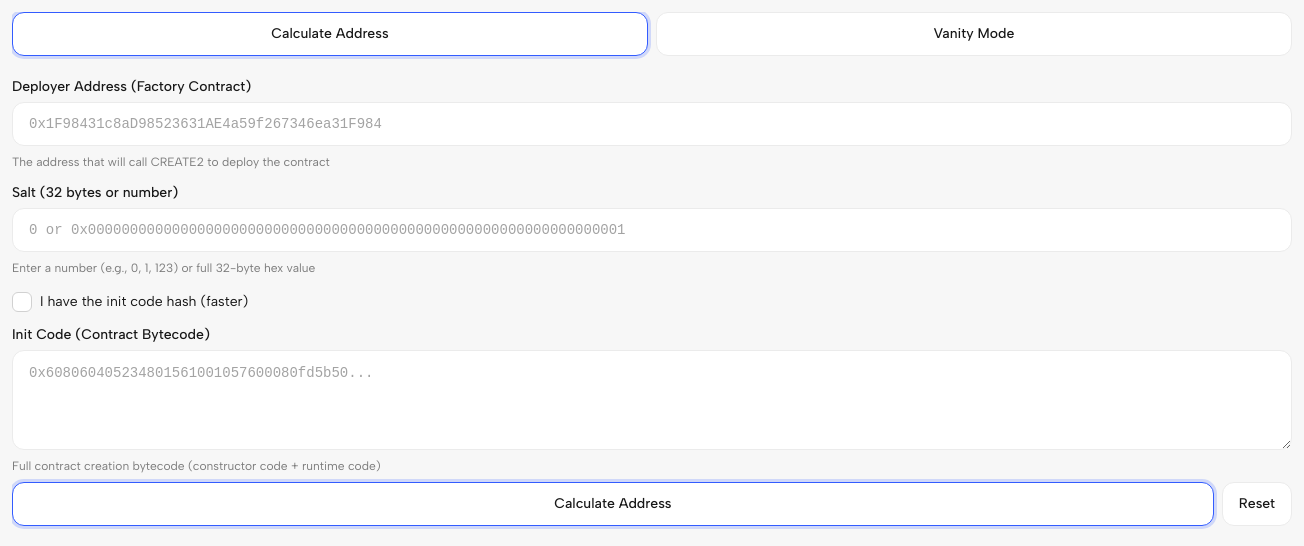
Test case: Create2AddressPredictorTool › resets form when reset button is clicked
Step 1. Type "0x1234567890123456789012345678901234567890" into the field with placeholder "0x1F98431c8aD98523631AE4a59f267346ea31F984" → (652,124), box [12,102,1292,146]
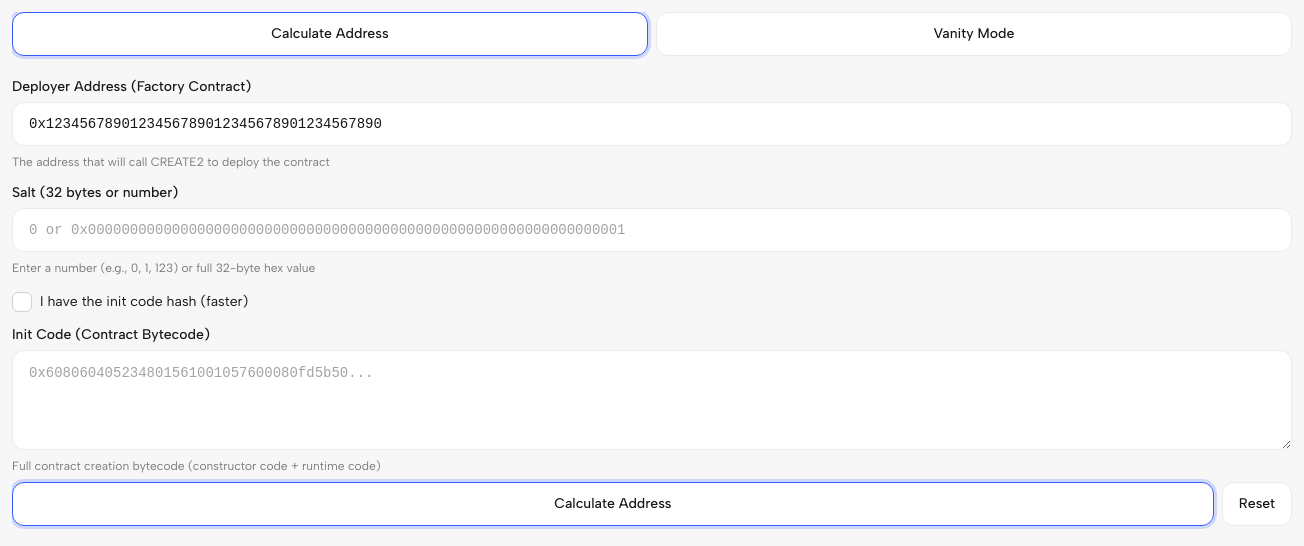
Step 2. Click the button "Reset" → (1257,504), box [1222,482,1292,526]
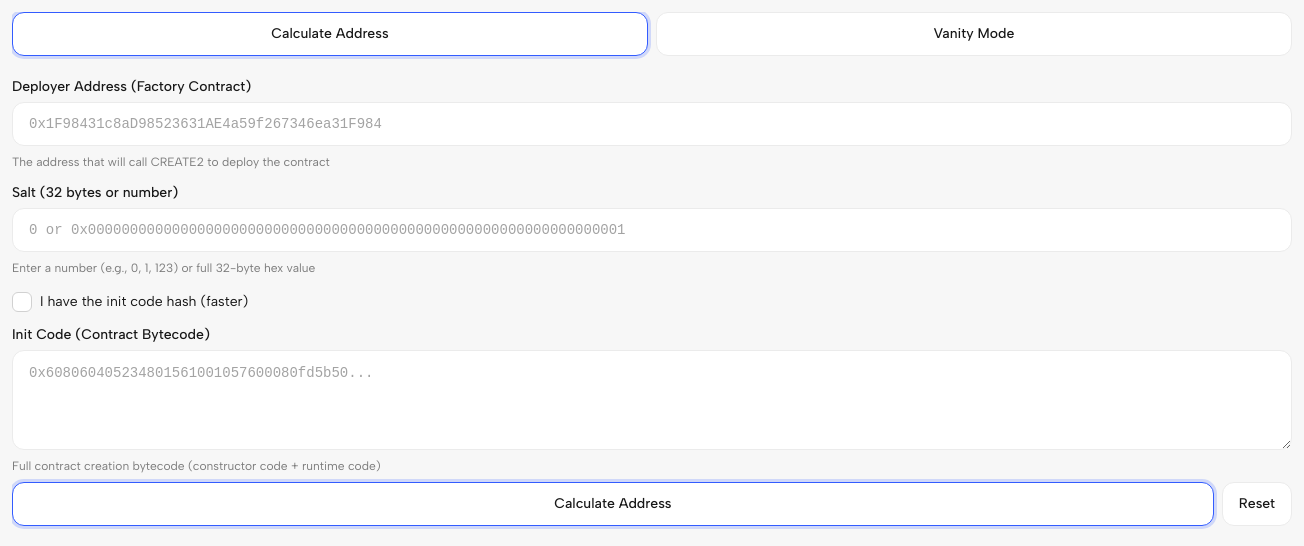
Result: the field with placeholder "0x1F98431c8aD98523631AE4a59f267346ea31F984" is empty at [12,102,1292,146]
